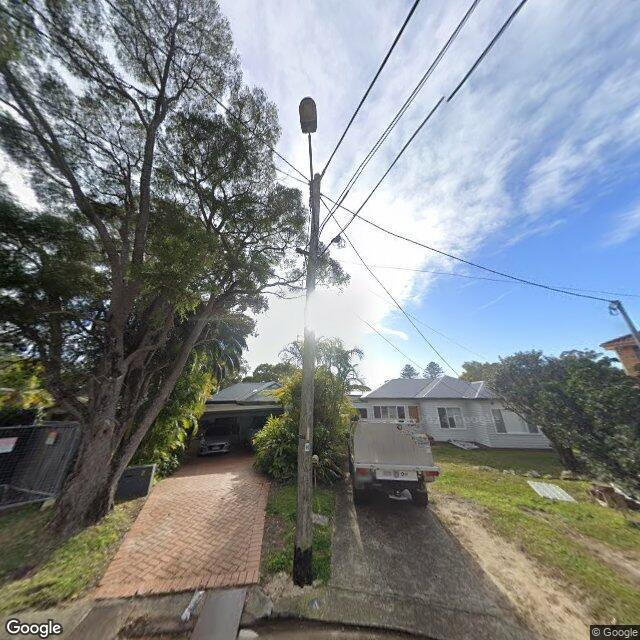streetlight: (296, 95, 318, 214)
timber-pole: (291, 172, 321, 585), (611, 299, 640, 349)
